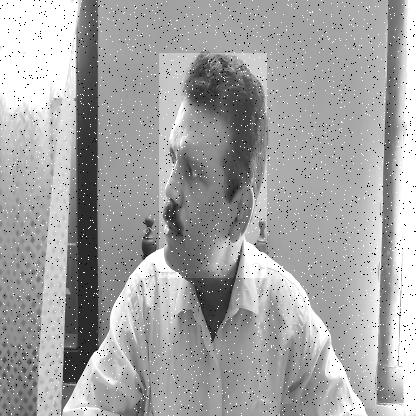Distracted: (159, 53, 267, 278)
